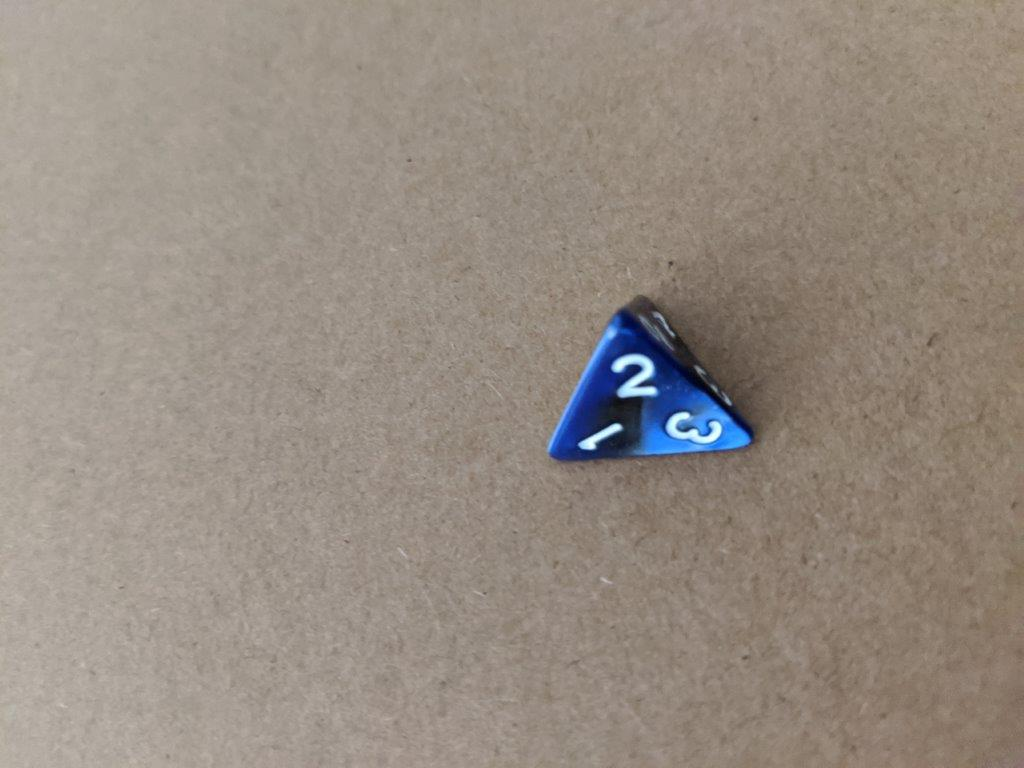d4-2: (540, 288, 759, 466)
